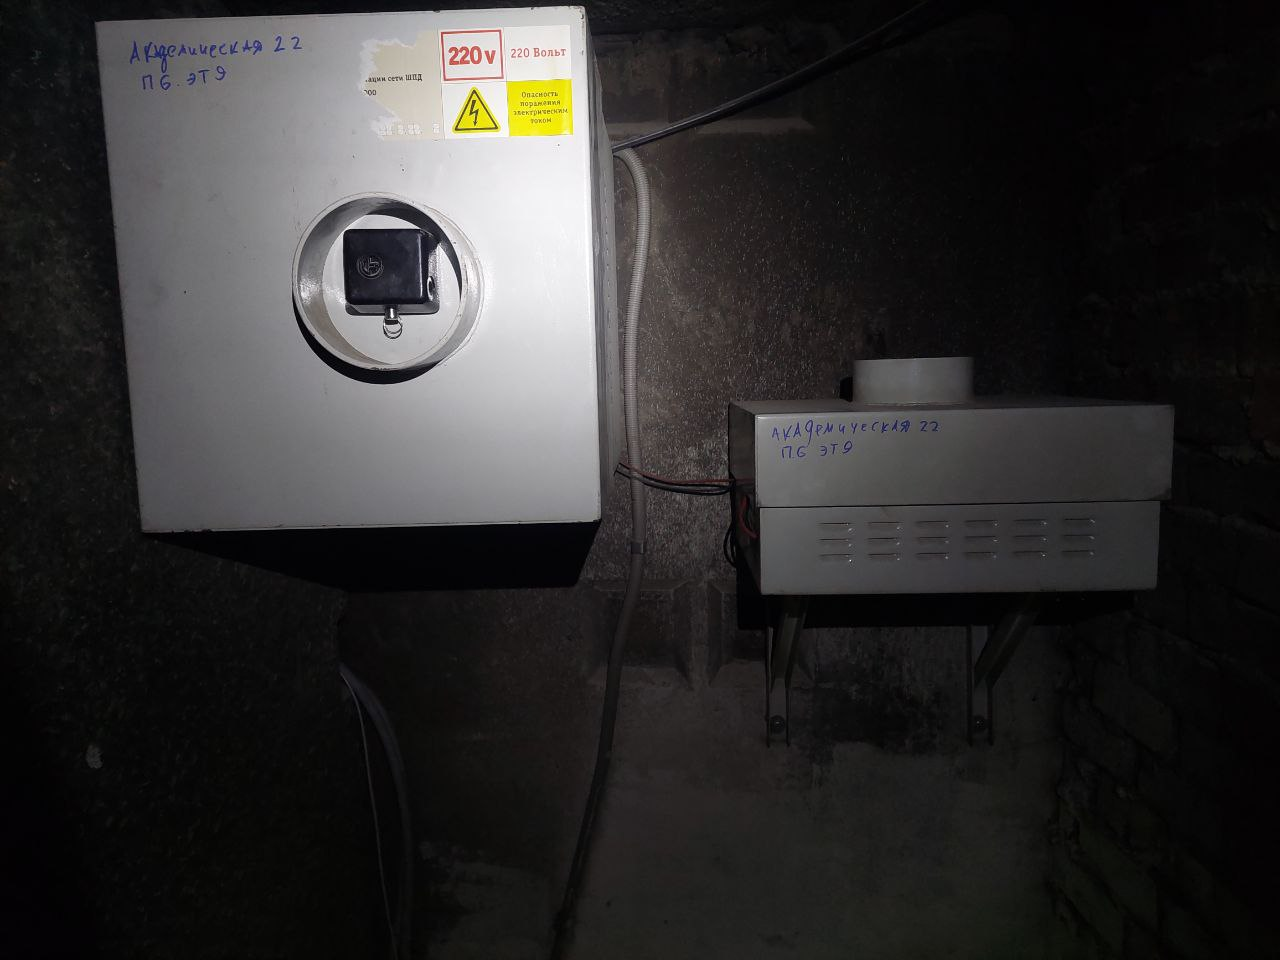shta-9: (89, 1, 626, 537)
shta-ps: (727, 353, 1175, 599)
